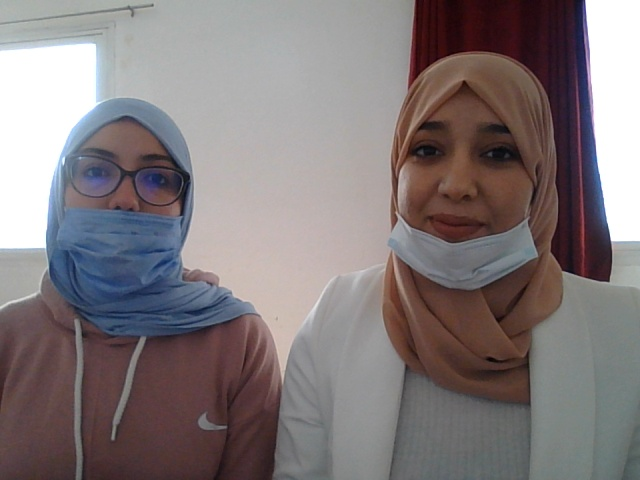mask_weared_incorrect: (369, 56, 569, 298), (48, 92, 203, 281)
